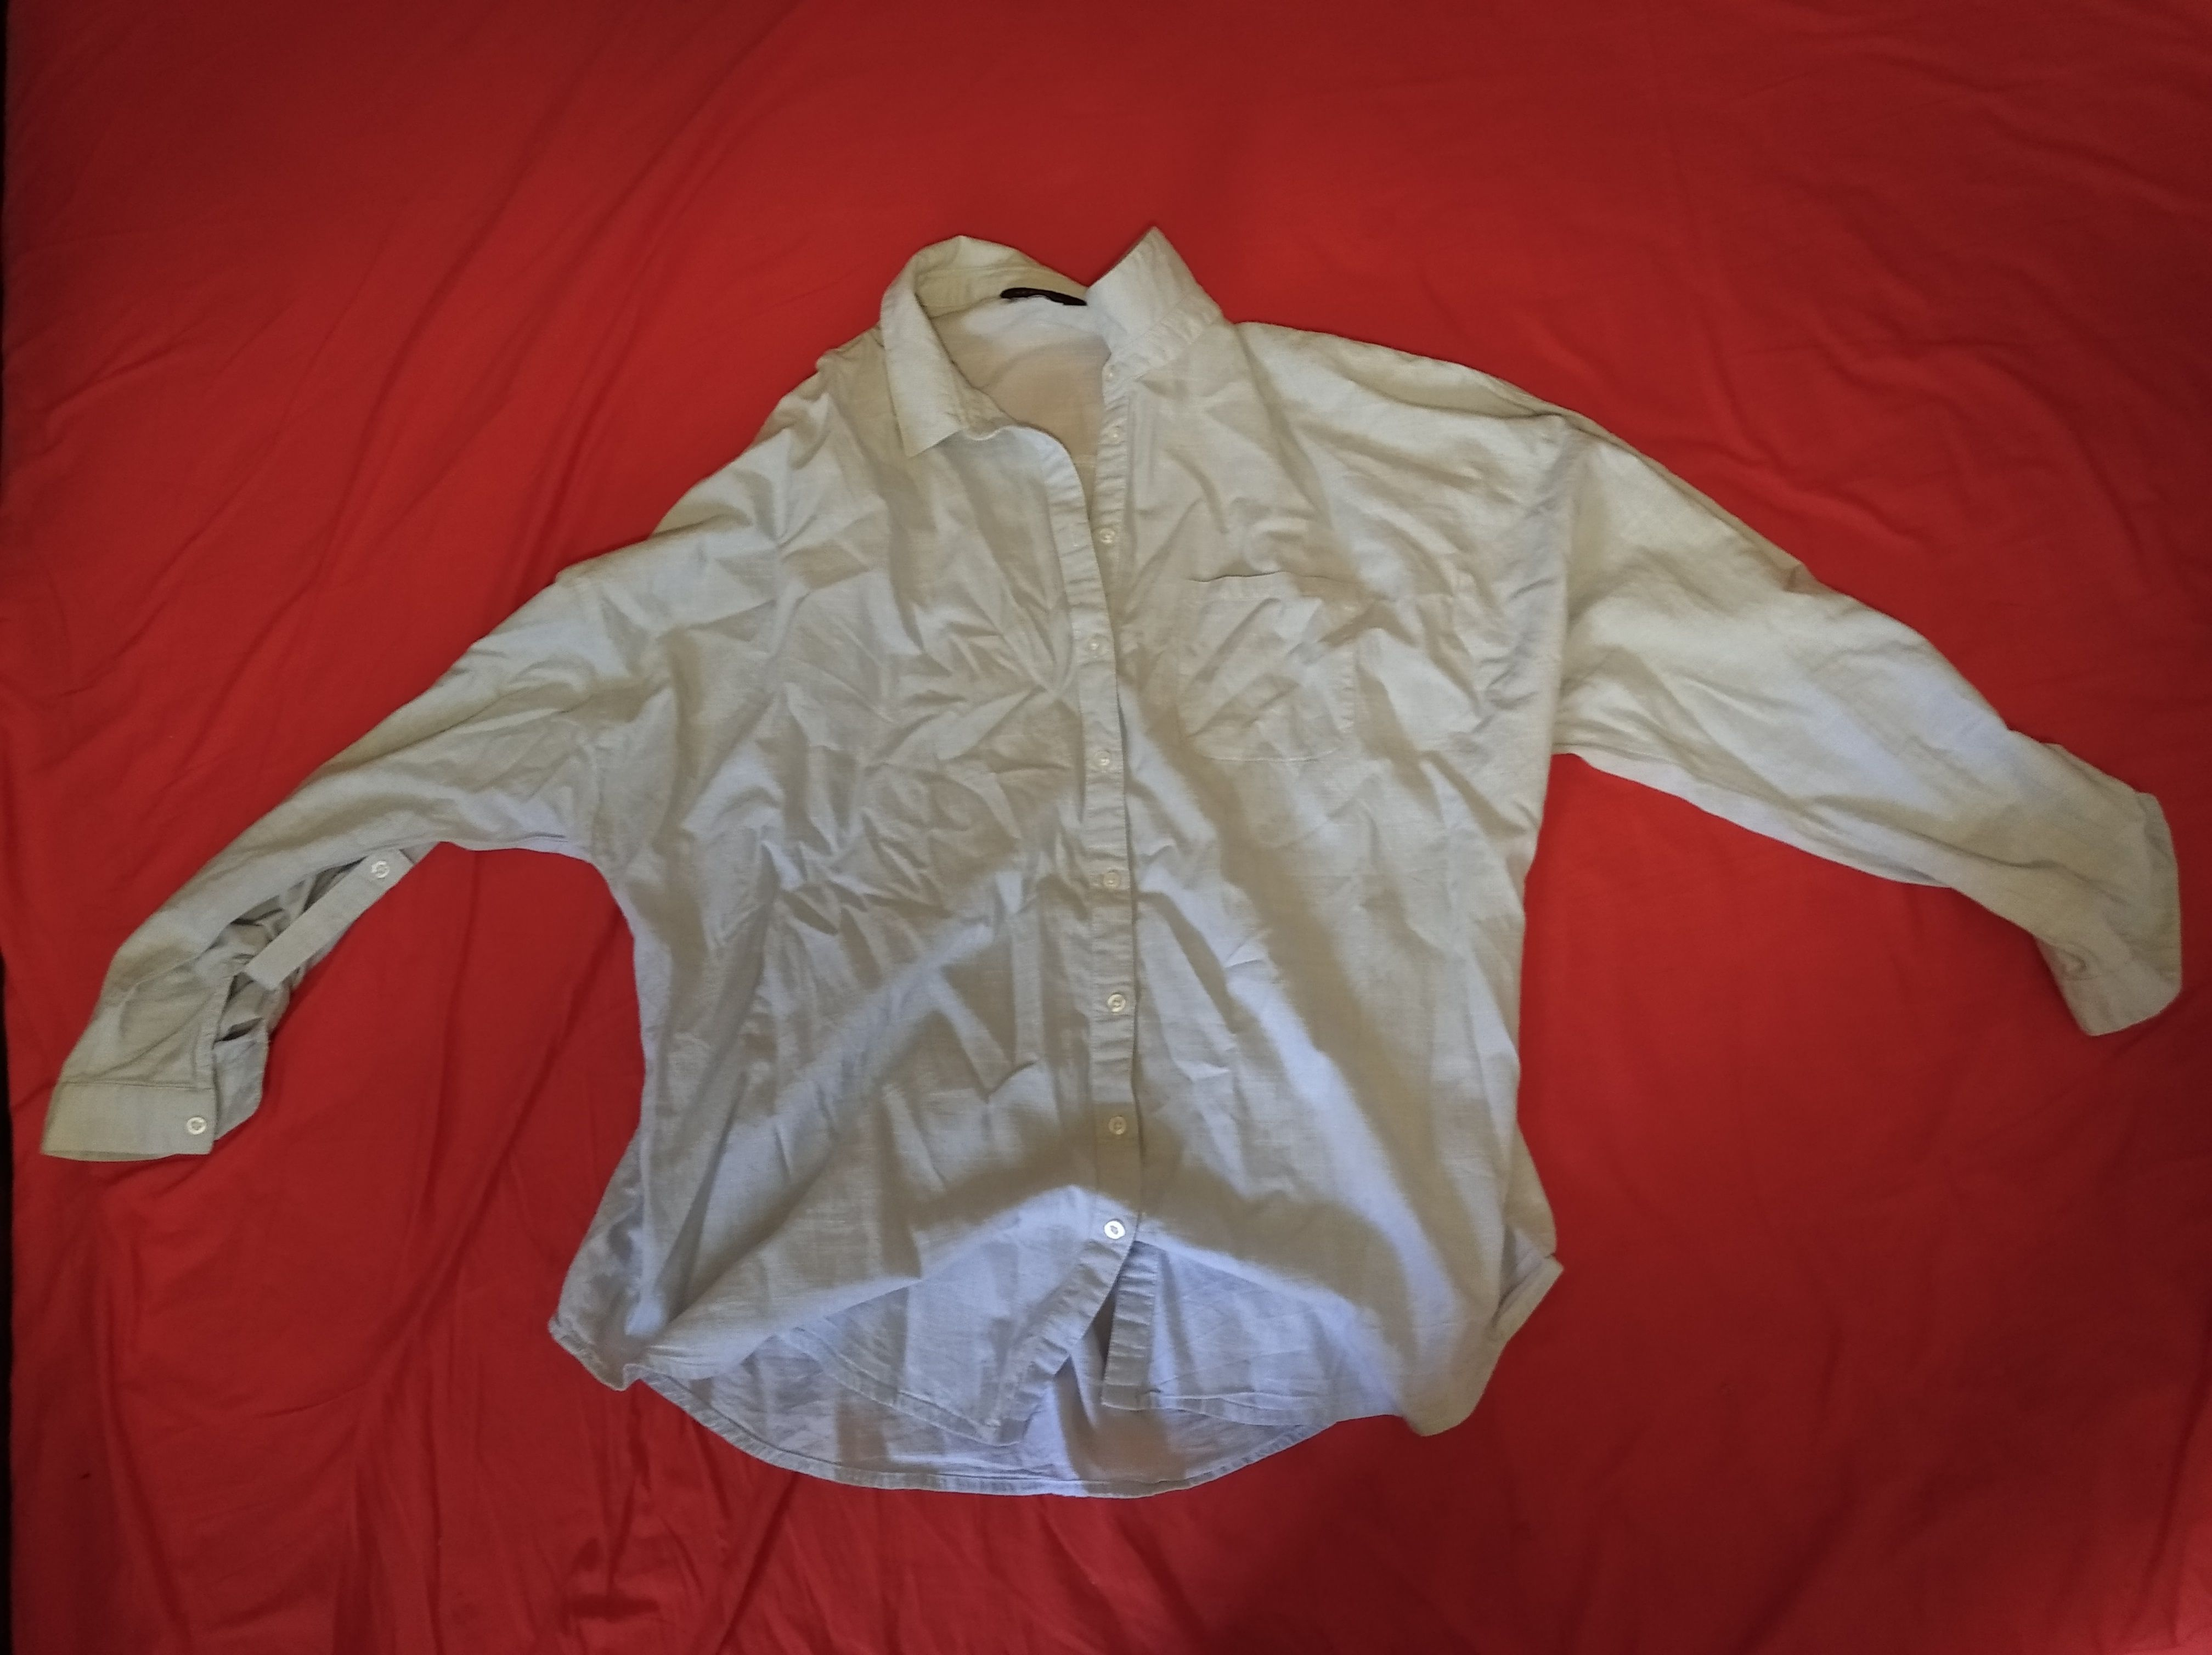clothes: (47, 243, 2186, 1511)
